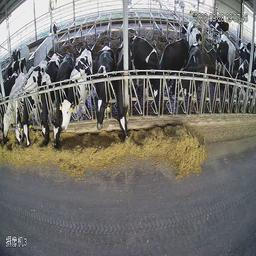cow: (61, 49, 92, 130), (131, 38, 161, 113), (177, 47, 206, 106), (23, 62, 40, 149), (116, 42, 131, 140), (96, 42, 112, 131), (41, 51, 52, 147), (231, 68, 255, 109), (3, 69, 16, 138), (54, 51, 63, 148), (14, 79, 24, 147), (180, 20, 204, 46), (215, 36, 228, 78), (187, 4, 210, 23)
